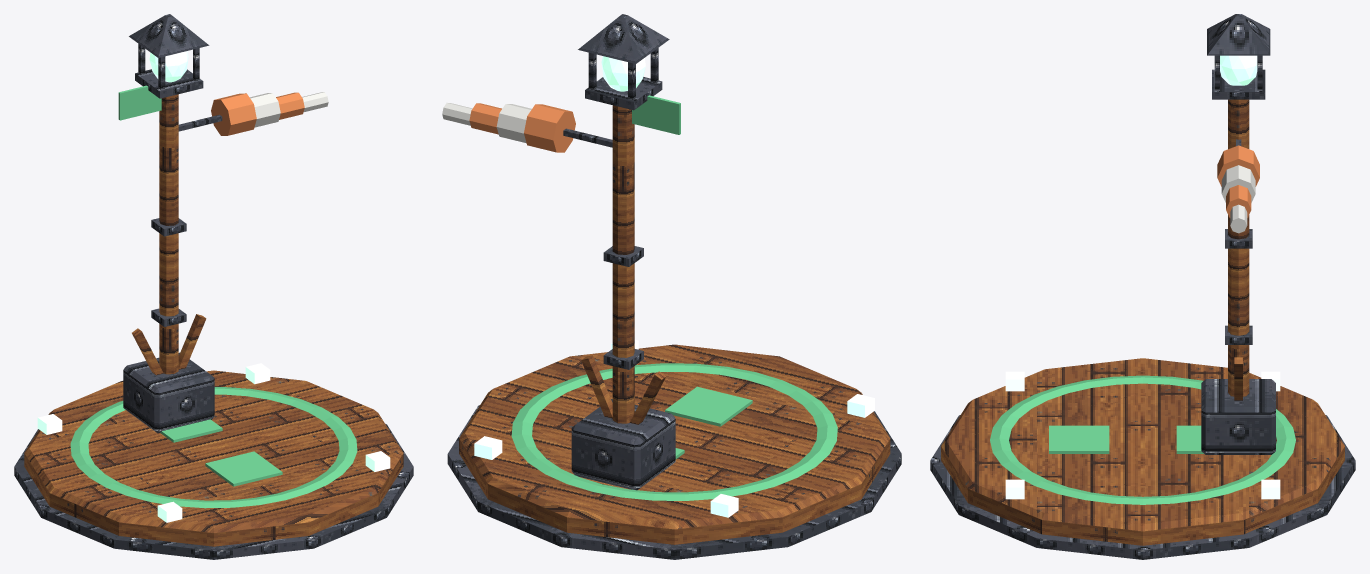
The model's file is exp_beacon.glb.
The picture shows the model from 3 angles, left to right: view 1: azimuth 30°, elevation 25°; view 2: azimuth 150°, elevation 25°; view 3: azimuth 270°, elevation 25°; orthographic projection. The views are drawn at different scales.
Parts seen in each view (by area): view 1: Beacon, Lamp; view 2: Beacon, Lamp; view 3: Beacon, Lamp.
Part boxes in pixels (<box>): Beacon: <box>14,14,413,559</box>; Lamp: <box>149,51,188,82</box>; Beacon: <box>442,14,901,559</box>; Lamp: <box>601,56,645,91</box>; Beacon: <box>930,14,1355,559</box>; Lamp: <box>1220,55,1257,85</box>.
Bounding box in the file's own units: 4 × 4.72 × 4.
7 materials, 2 textured.
